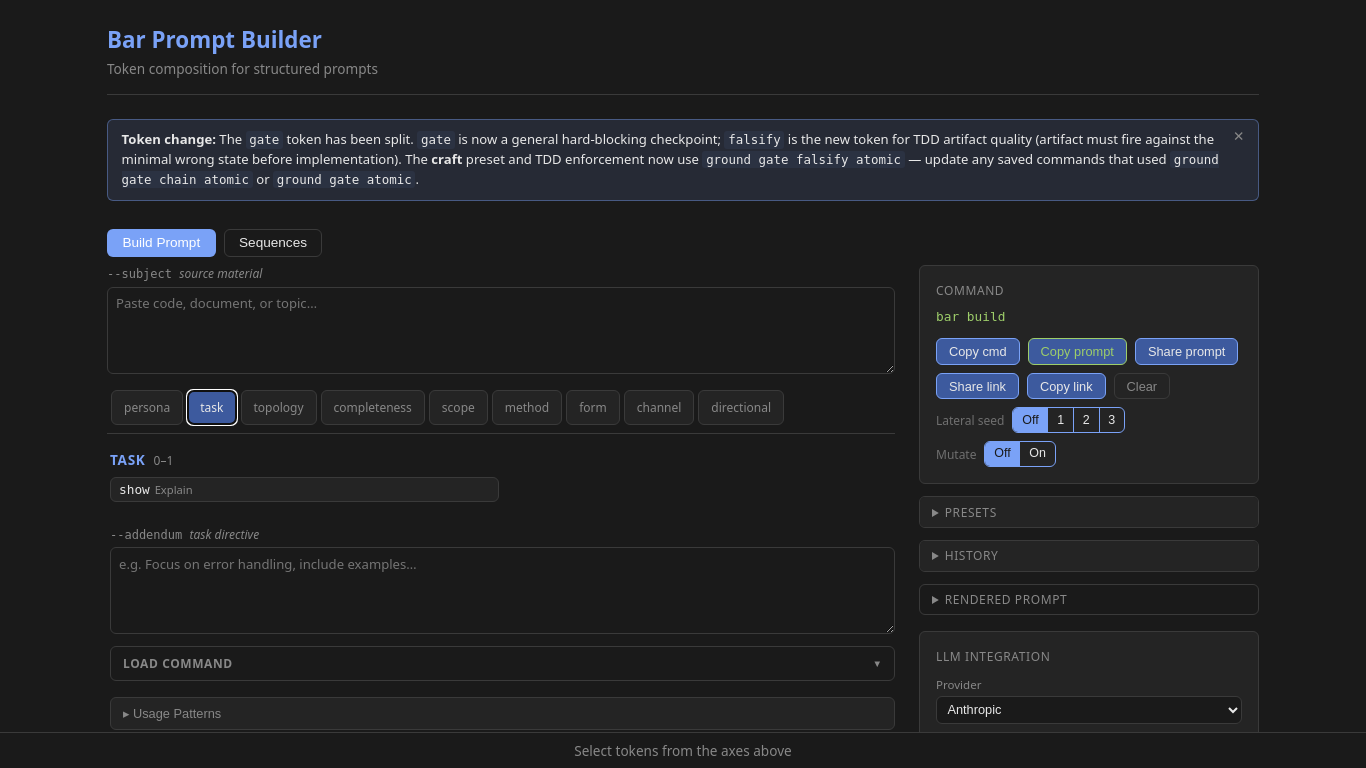
Test: Page — Sequences mode › copied prompt injects wait-for-reply terminal string after requires_user_input steps
Click the button "Sequences". click: (273, 243)
box: [224,229,322,257]
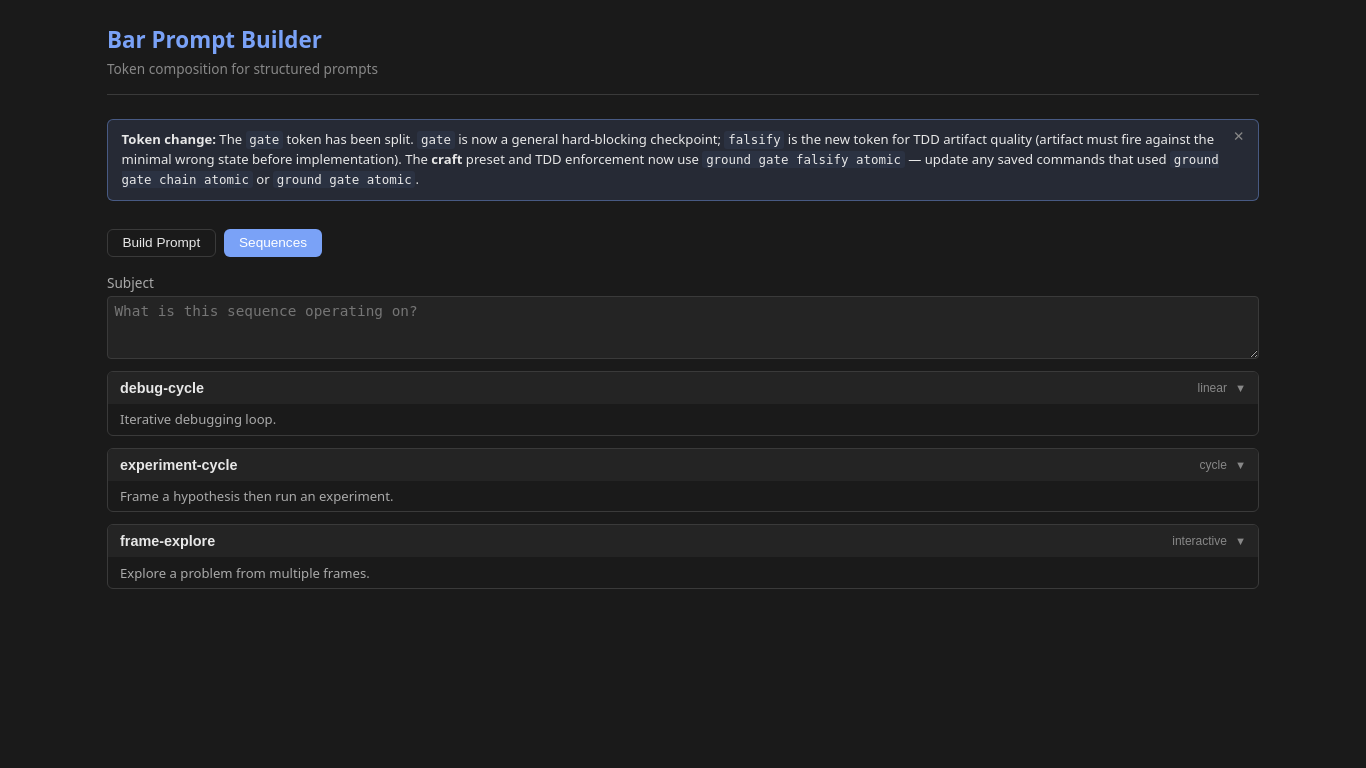
Click the button with class "seq-card-header" showing "debug-cycle linear ▼". click: (162, 388)
box: [108,372,1258,404]
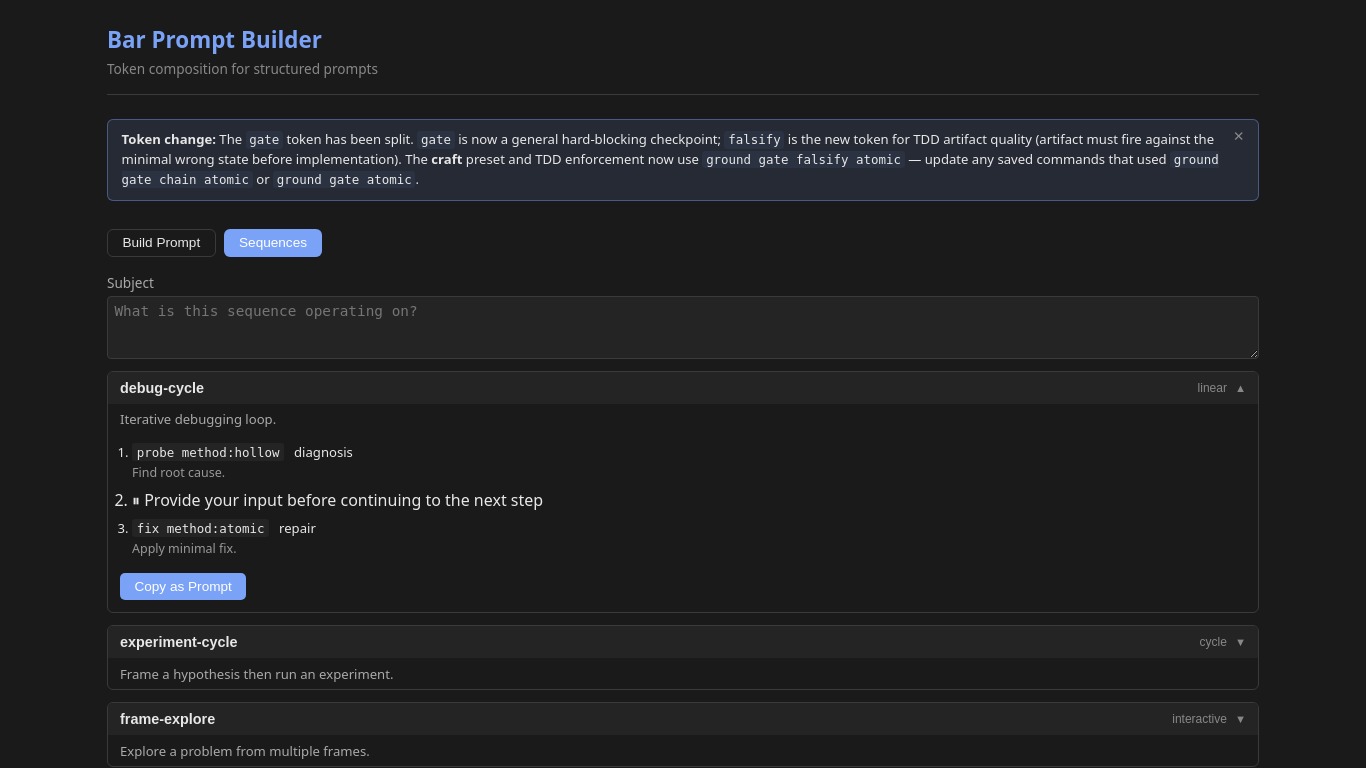
Click the button with class "seq-copy-btn". click: (183, 586)
box: [120,573,246,600]
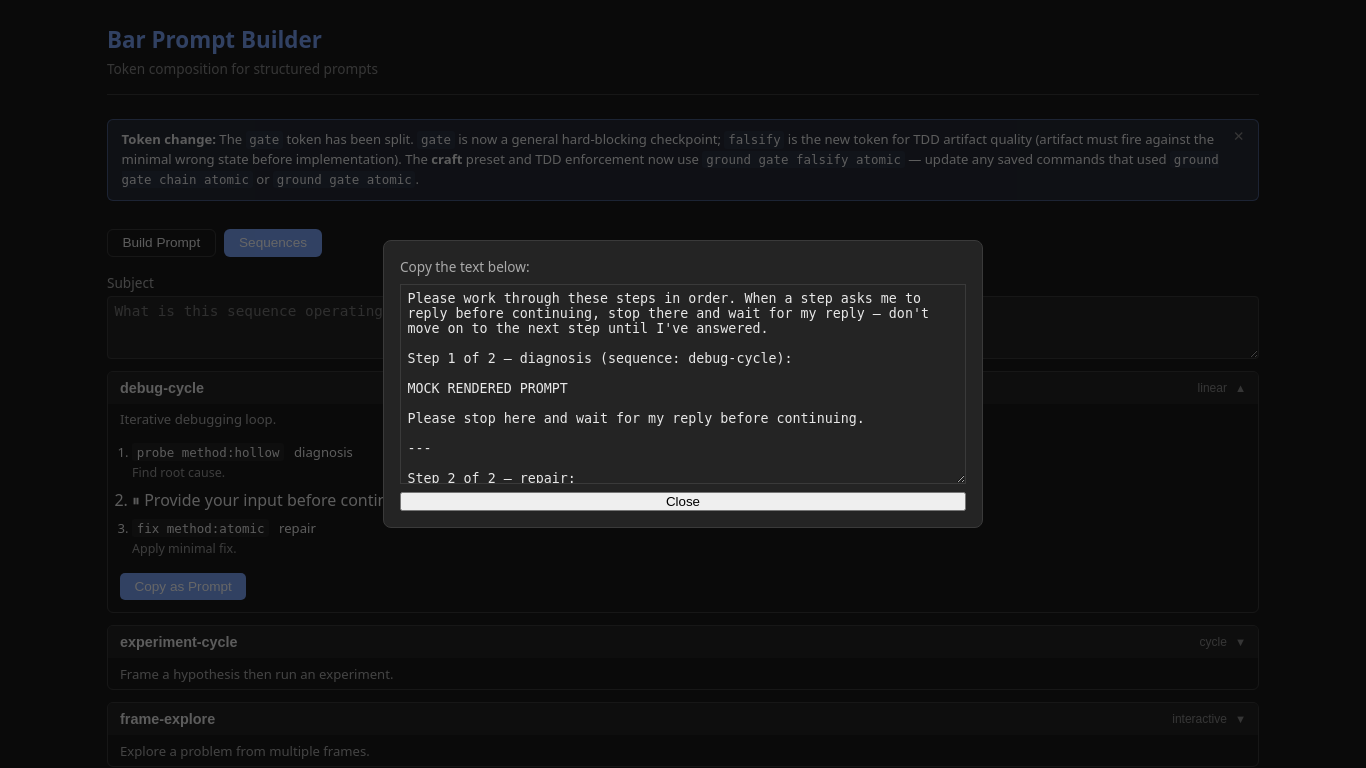
Expected: the text box with class "seq-modal-textarea" is shown, [400,284,966,484]
